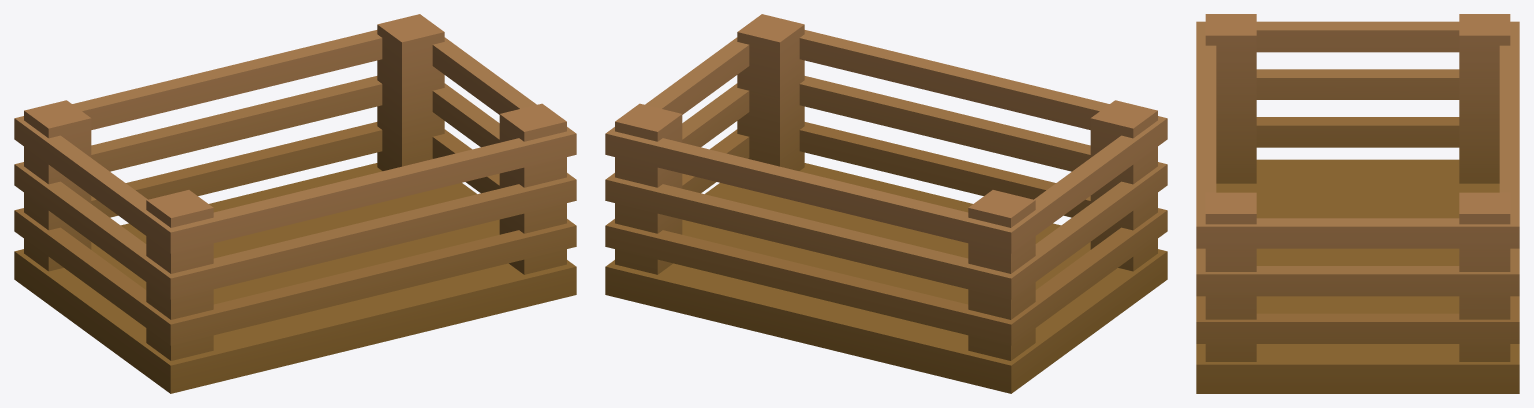
File: veggiesBox.fbx
3 renders of one model, left to right at view 1: azimuth 30°, elevation 25°; view 2: azimuth 150°, elevation 25°; view 3: azimuth 270°, elevation 25°, orthographic. The views are drawn at different scales.
Visible parts, largest first — view 1: veggiesBox; view 2: veggiesBox; view 3: veggiesBox.
Boxes of the visible parts, x1,y1,x2,y2 form: veggiesBox: (14, 14, 576, 393); veggiesBox: (605, 14, 1167, 393); veggiesBox: (1196, 14, 1519, 393).
Bounding box in the file's own units: 429 × 173 × 286.
